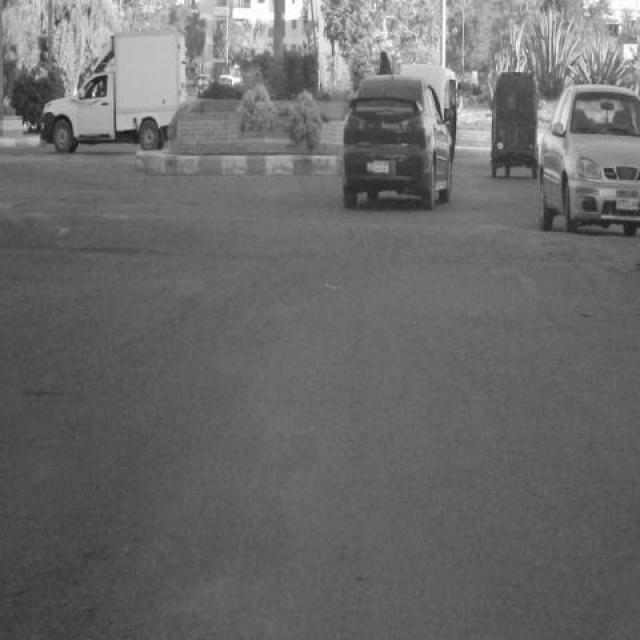Unmarked Bump: (0, 202, 524, 272), (524, 221, 639, 279)
